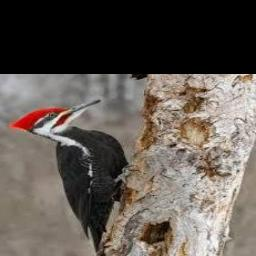Woodpecker: (9, 98, 130, 255)
